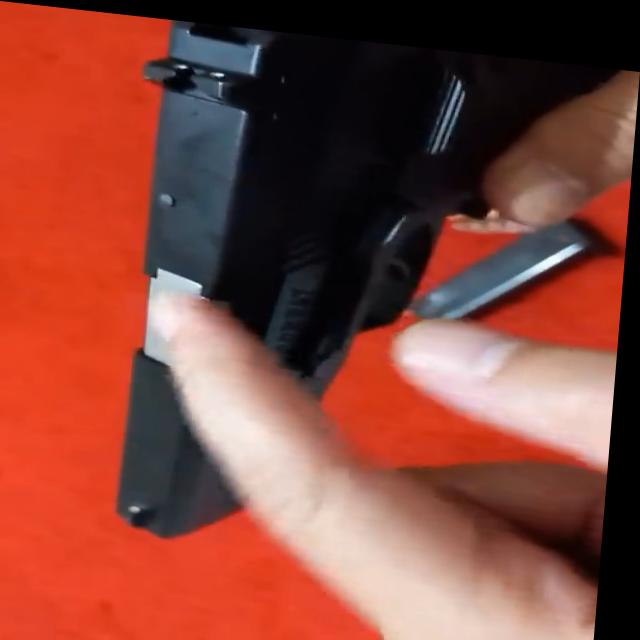handgun: (83, 10, 508, 555)
